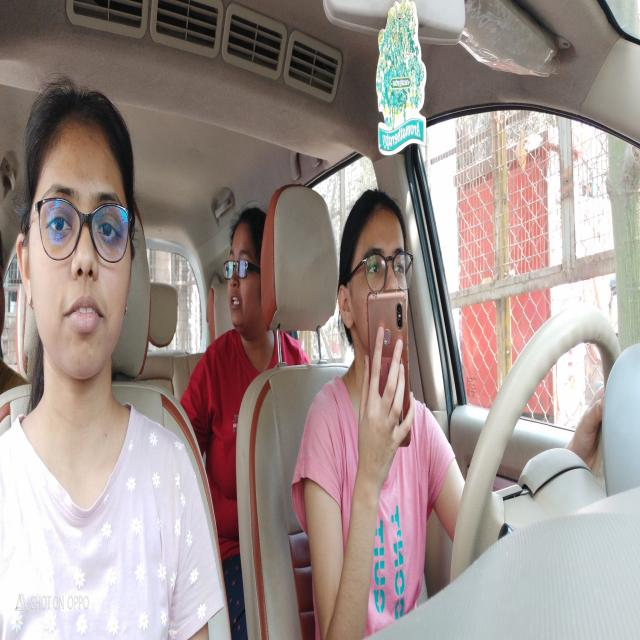mobile: (369, 287, 411, 431)
person: (30, 76, 130, 372), (341, 198, 417, 350), (228, 209, 266, 326)
